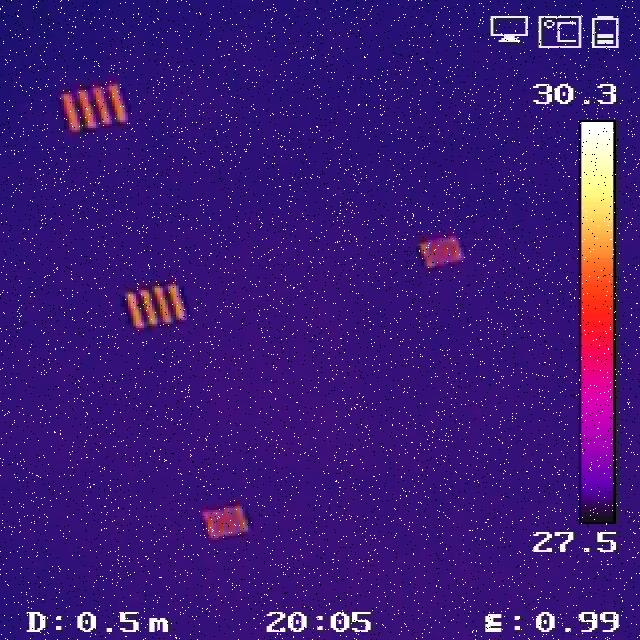Distinguishable 4-bar target: (58, 83, 130, 133), (125, 285, 184, 329)
Indistinguishable 4-bar target: (420, 238, 460, 267)
threshold 4-bar target: (203, 503, 248, 541)
